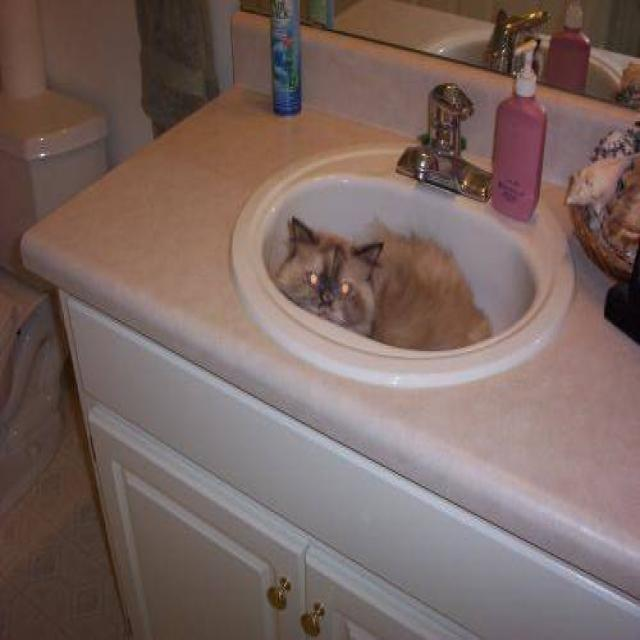cat: (272, 213, 492, 351)
